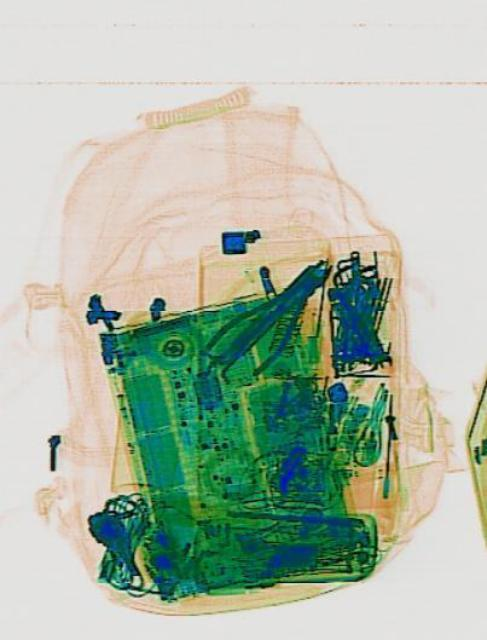Pliers: (201, 232, 344, 394)
